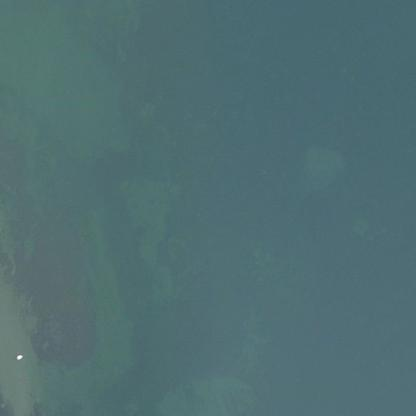ship: (0, 353, 4, 359)
